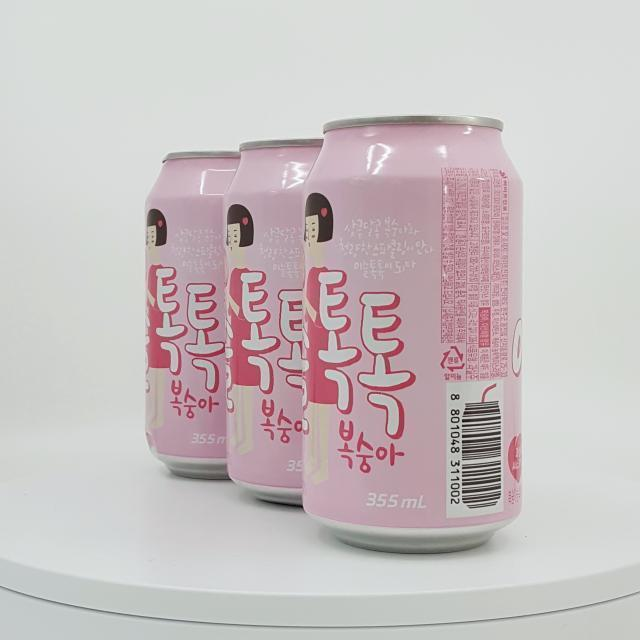can: (302, 112, 529, 555), (138, 147, 228, 484), (228, 134, 306, 508)
